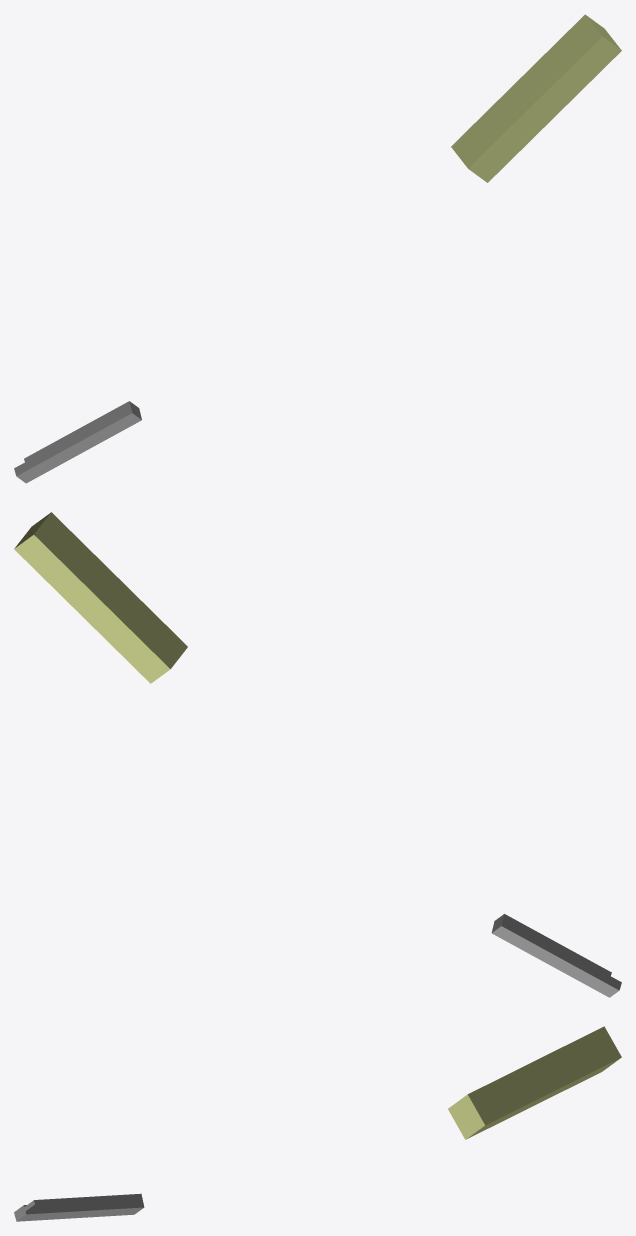
3 renders of one model, top to bottom at view 1: azimuth 30°, elevation 25°; view 2: azimuth 150°, elevation 25°; view 3: azimuth 330°, elevation 25°, orthographic.
Visible parts, largest first — view 1: 0_2_3_1_2_2_2; view 2: 0_2_3_1_2_2_2; view 3: 0_2_3_1_2_2_2.
Boxes of the visible parts, bbox=[...] form: 0_2_3_1_2_2_2: bbox=[14, 14, 621, 483]; 0_2_3_1_2_2_2: bbox=[14, 512, 621, 997]; 0_2_3_1_2_2_2: bbox=[14, 1026, 621, 1221].
Size of the model in its own units: 104 by 54.85 by 6.16.
